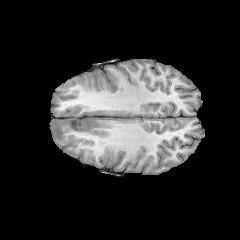glioma: (52, 120, 109, 141)
